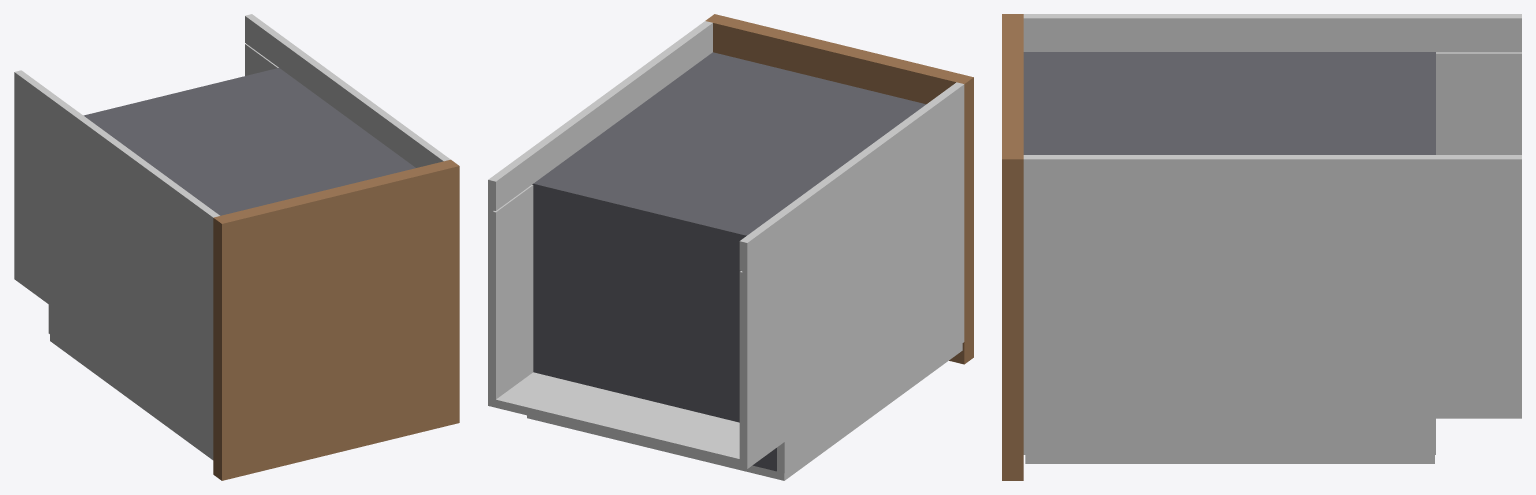
Rendered from 60CM Base Cabinet_Highline Original.obj.
3 renders of one model, left to right at view 1: azimuth 30°, elevation 25°; view 2: azimuth 150°, elevation 25°; view 3: azimuth 270°, elevation 25°, orthographic. The views are drawn at different scales.
Visible parts, largest first — view 1: Worktop_(2), RH_Panel_(2), BackPanel_(2), LH_Panel_(2), Door_(2); view 2: RH_Panel_(2), Bottom_Shelf_(2), BackPanel_(2), LH_Panel_(2), Worktop_(2), Plinth_(2), Door_(2); view 3: LH_Panel_(2), BackPanel_(2), RH_Panel_(2), Worktop_(2), Door_(2).
Boxes of the visible parts, x1,y1,x2,y2 form: Worktop_(2): (213, 159, 459, 480); RH_Panel_(2): (14, 70, 219, 453); BackPanel_(2): (83, 68, 415, 215); LH_Panel_(2): (245, 14, 450, 167); Door_(2): (50, 334, 213, 460); RH_Panel_(2): (739, 82, 964, 473); Bottom_Shelf_(2): (533, 185, 776, 471); BackPanel_(2): (532, 52, 925, 236); LH_Panel_(2): (488, 21, 712, 407); Worktop_(2): (705, 14, 973, 364); Plinth_(2): (496, 372, 739, 467); Door_(2): (527, 343, 962, 480); LH_Panel_(2): (1023, 155, 1521, 454); BackPanel_(2): (1023, 52, 1435, 154); RH_Panel_(2): (1023, 14, 1521, 154); Worktop_(2): (1002, 14, 1023, 480); Door_(2): (1025, 455, 1434, 463).
Bounding box in the file's own units: 0.6 × 0.62 × 0.908.
